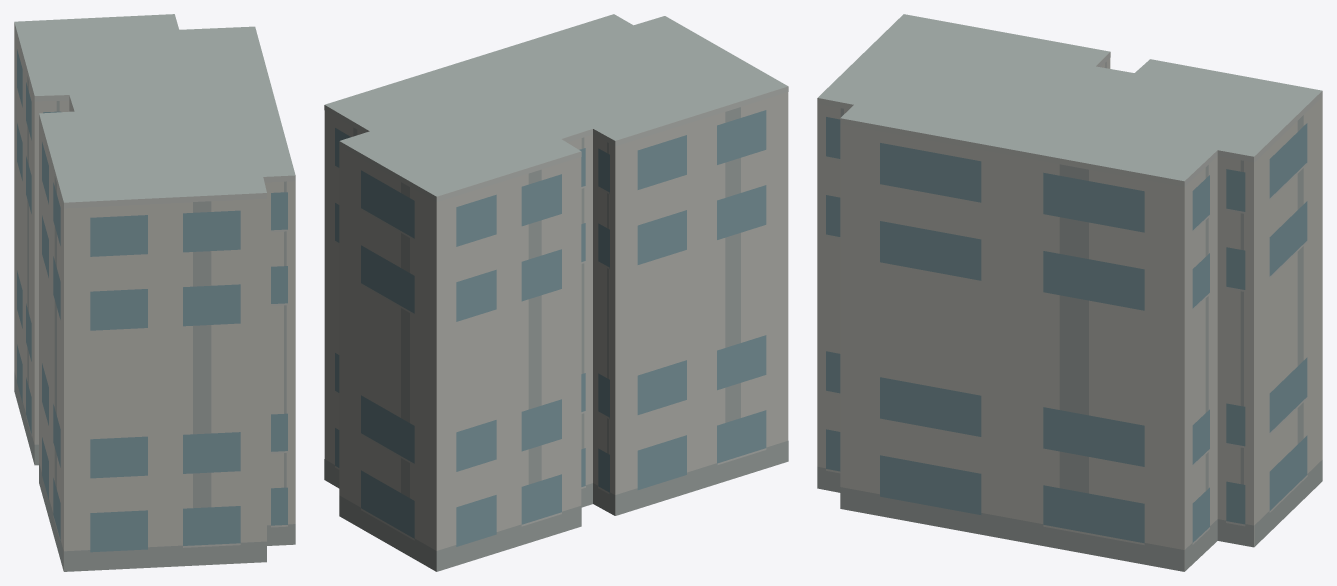
Rendered from survey-upis-32574731.glb.
3 renders of one model, left to right at view 1: azimuth 30°, elevation 25°; view 2: azimuth 150°, elevation 25°; view 3: azimuth 270°, elevation 25°, orthographic. The views are drawn at different scales.
Parts seen in each view (by area): view 1: survey-upis-32574731.tmp; view 2: survey-upis-32574731.tmp; view 3: survey-upis-32574731.tmp.
Part boxes in pixels (x1,y1,x2,y2): survey-upis-32574731.tmp: (14, 14, 295, 571); survey-upis-32574731.tmp: (324, 14, 788, 571); survey-upis-32574731.tmp: (817, 14, 1322, 571).
Size of the model in its own units: 14.79 by 16.1 by 18.88.
